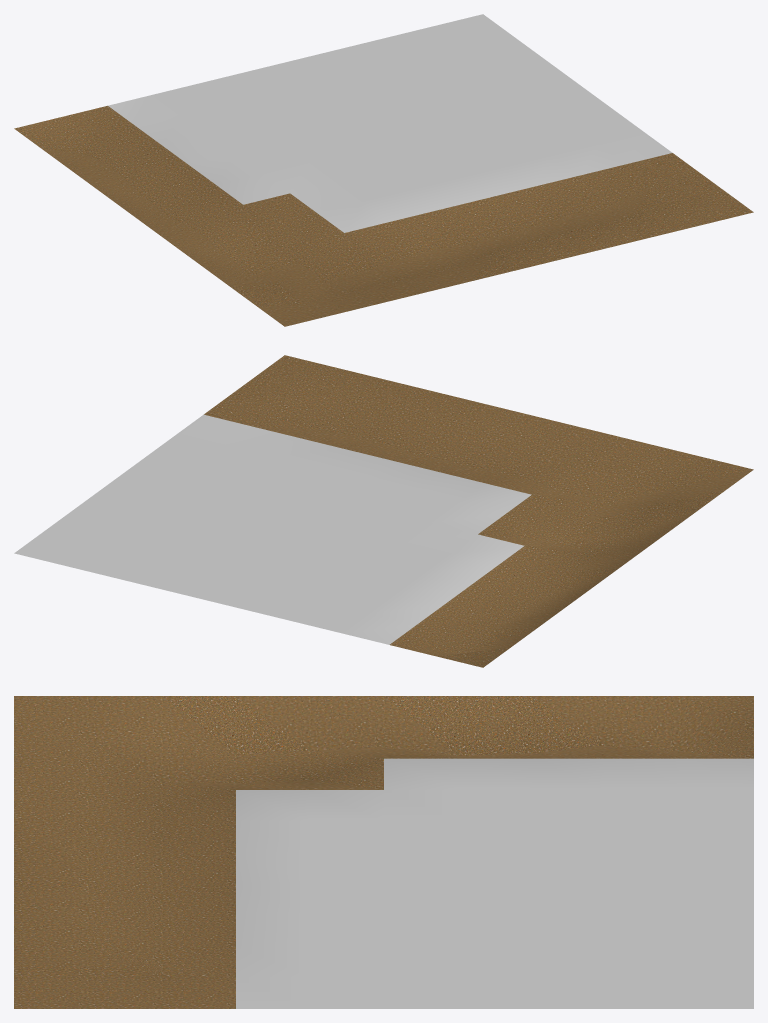
File: FloorPlane.obj
3 renders of one model, top to bottom at view 1: azimuth 30°, elevation 25°; view 2: azimuth 150°, elevation 25°; view 3: azimuth 270°, elevation 25°, orthographic. The views are drawn at different scales.
Parts seen in each view (by area): view 1: FloorPlane:pPlane1; view 2: FloorPlane:pPlane1; view 3: FloorPlane:pPlane1.
Part boxes in pixels (<box>): FloorPlane:pPlane1: <box>14,14,753,326</box>; FloorPlane:pPlane1: <box>14,355,753,667</box>; FloorPlane:pPlane1: <box>14,696,753,1008</box>.
Bounding box in the file's own units: 24.04 × 1.02 × 24.04.
